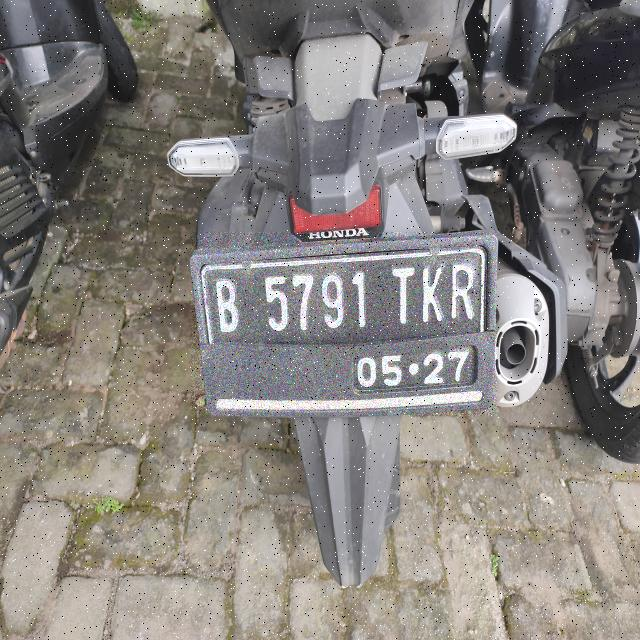plate: (192, 232, 496, 415)
